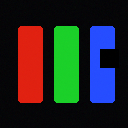1 square: (100, 49, 118, 67)
